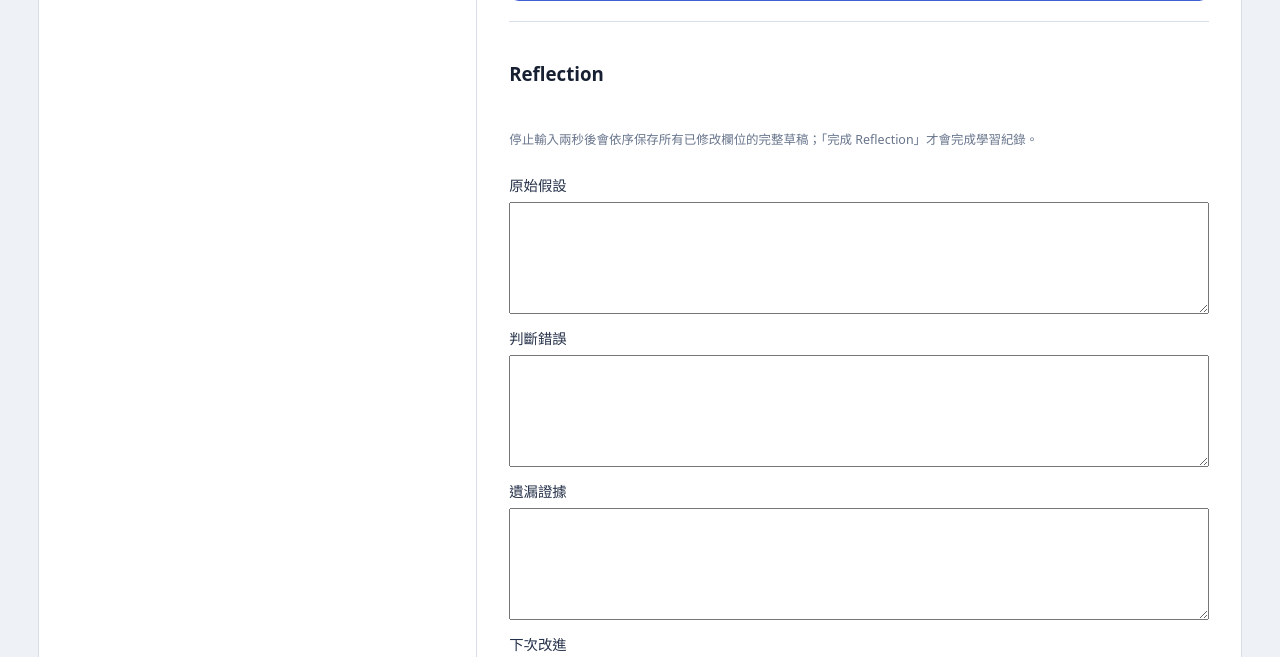
ThesisRoutes › autosaves every dirty Reflection field with sequential server revisions
The width and height of the screenshot is (1280, 657).
(page scrolled)
Type "假設 A" into the text box labelled "原始假設" at [859, 258], box left=509, top=202, right=1209, bottom=314
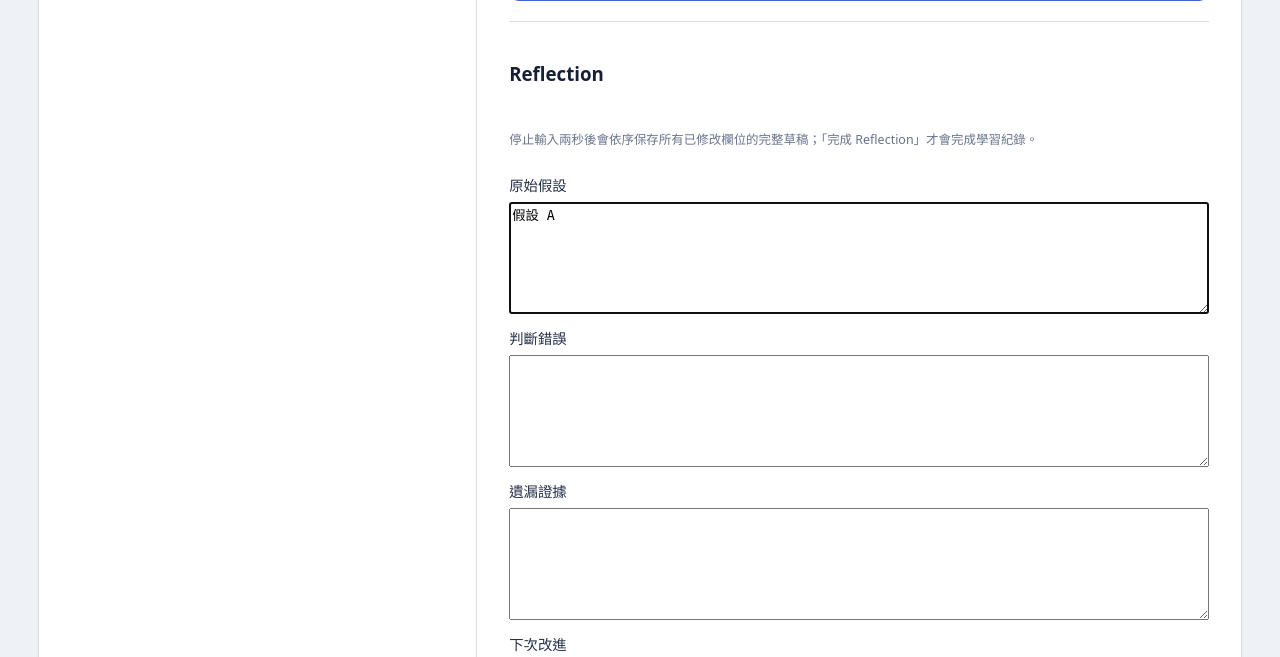
Type "錯誤 B" into the text box labelled "判斷錯誤" at [859, 411], box left=509, top=355, right=1209, bottom=467
(page scrolled)
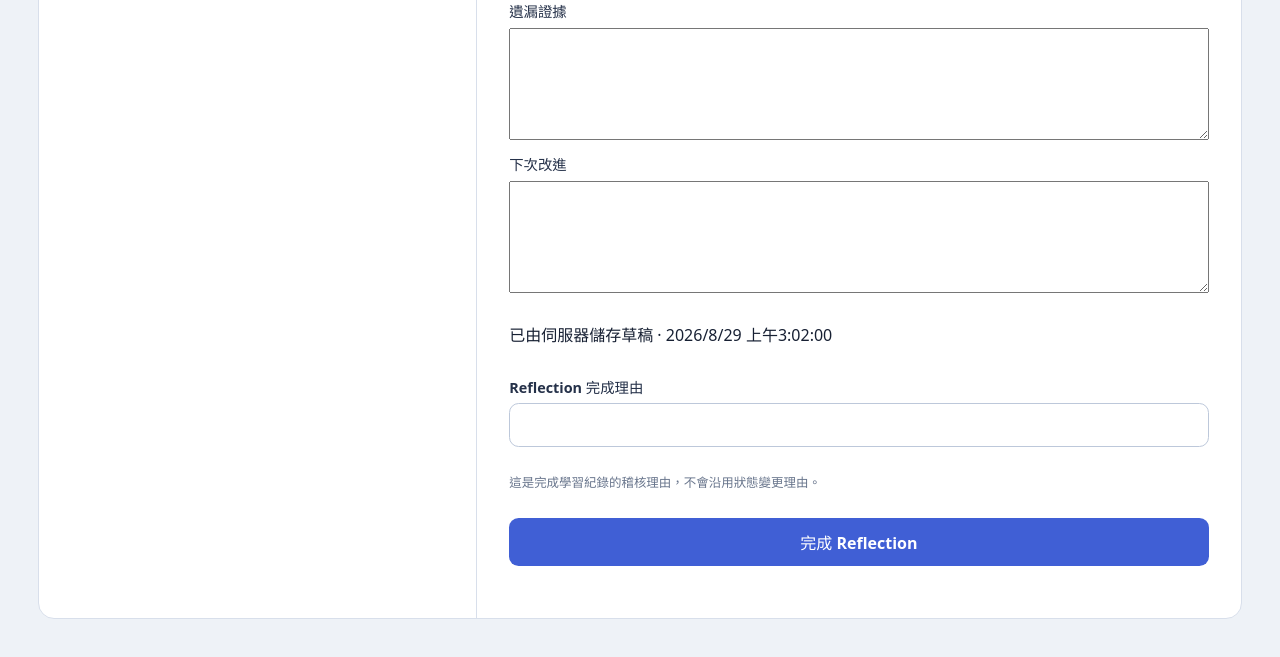
Expected: the text "已由伺服器儲存草稿" is shown, left=509, top=324, right=832, bottom=346
